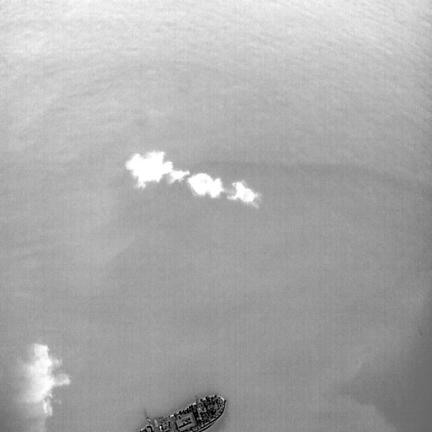flukeprints: (126, 151, 173, 187), (187, 173, 223, 197), (227, 181, 259, 207), (168, 169, 189, 182)
